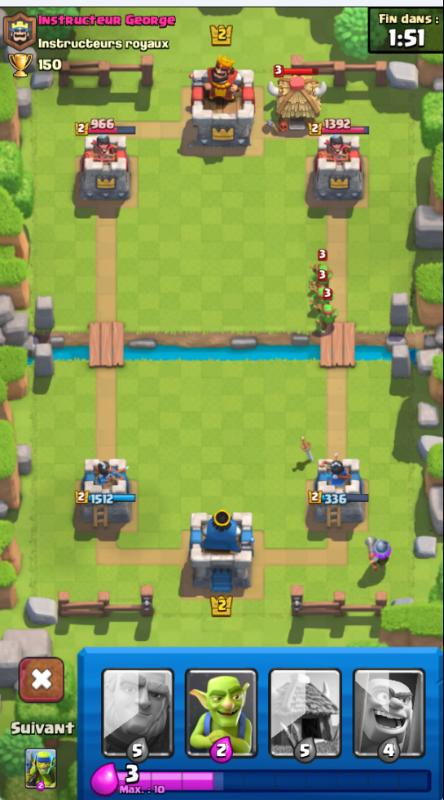gobelin_lances: (315, 299, 341, 338), (311, 285, 337, 316), (308, 260, 333, 290)
mousquetaire: (365, 530, 394, 572)
